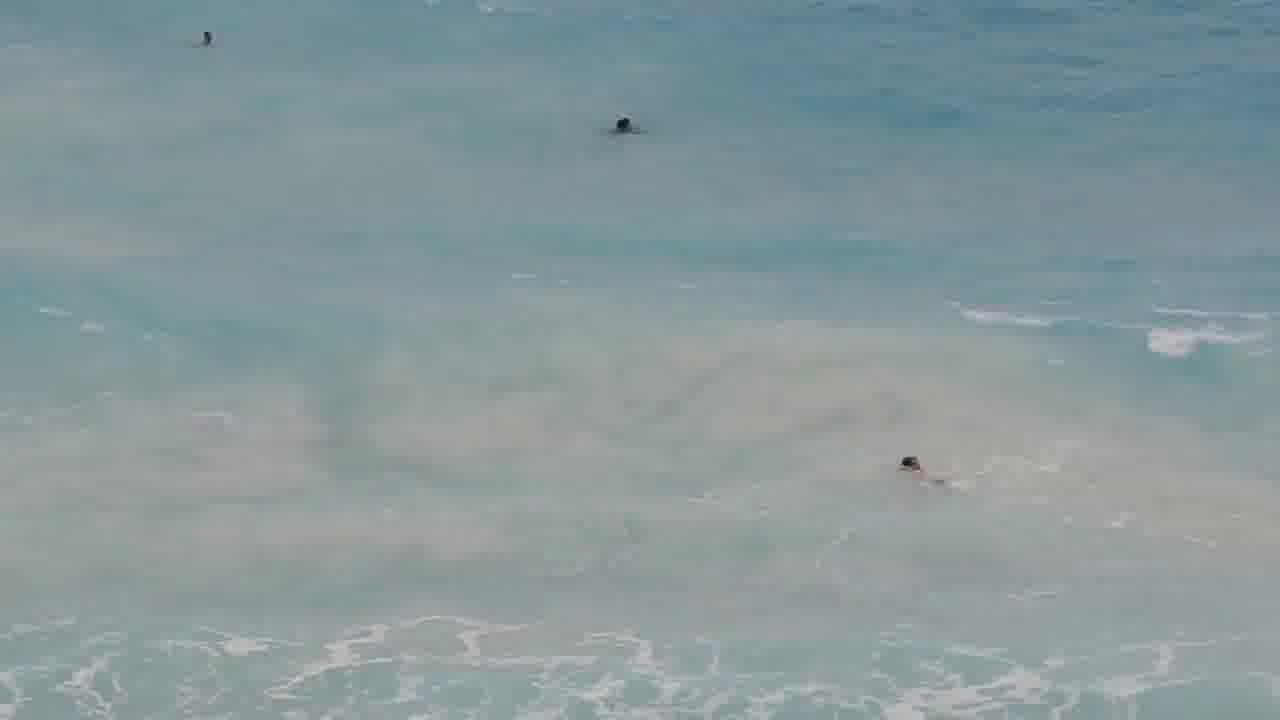human: (596, 100, 662, 150), (883, 439, 935, 478), (186, 25, 237, 54)
